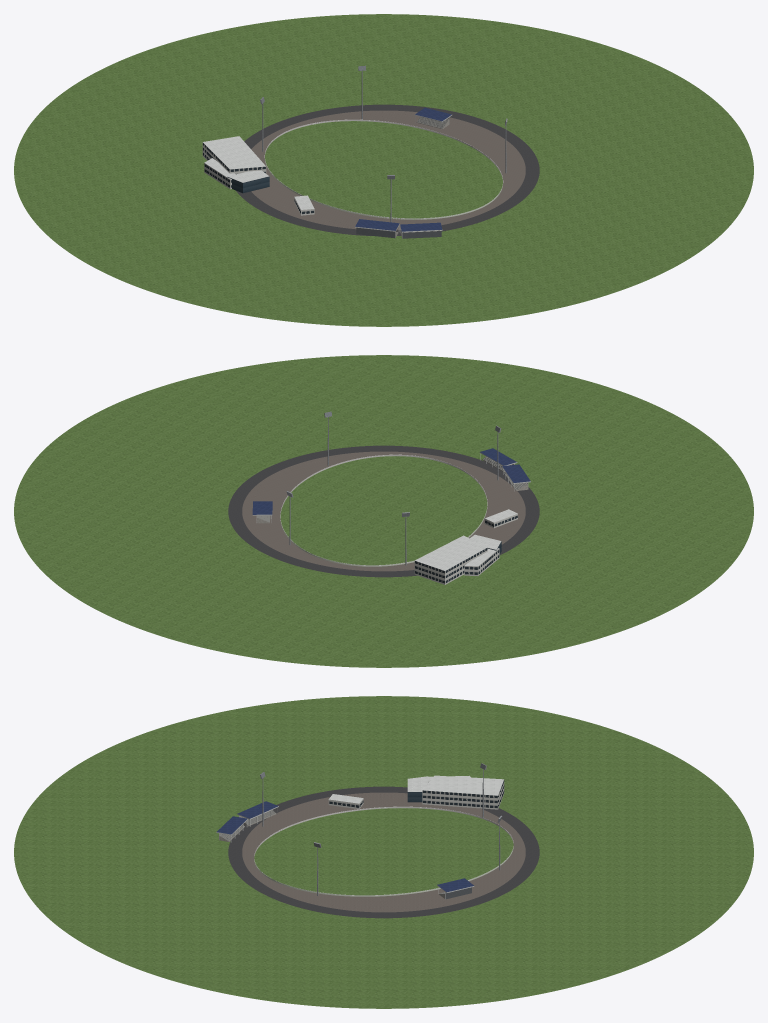
Rendered from barossa.glb.
3 renders of one model, top to bottom at view 1: azimuth 30°, elevation 25°; view 2: azimuth 150°, elevation 25°; view 3: azimuth 270°, elevation 25°, orthographic.
Visible parts, largest first — view 1: concourse, extras, roofs, fence, stands; view 2: concourse, extras, roofs, fence; view 3: concourse, extras, roofs, fence, stands.
Part boxes in pixels (left/top/right/bottom): concourse: left=14, top=14, right=753, bottom=326; extras: left=202, top=136, right=314, bottom=215; roofs: left=355, top=107, right=451, bottom=238; fence: left=264, top=119, right=503, bottom=219; stands: left=356, top=117, right=449, bottom=238; concourse: left=14, top=355, right=753, bottom=667; extras: left=414, top=509, right=517, bottom=584; roofs: left=252, top=448, right=530, bottom=522; fence: left=280, top=454, right=487, bottom=566; concourse: left=14, top=696, right=753, bottom=1008; extras: left=328, top=775, right=504, bottom=809; roofs: left=216, top=801, right=474, bottom=899; fence: left=254, top=806, right=513, bottom=896; stands: left=219, top=810, right=471, bottom=899.
Size of the model in its own units: 480 by 37.95 by 480.
17 materials, 17 textured.
